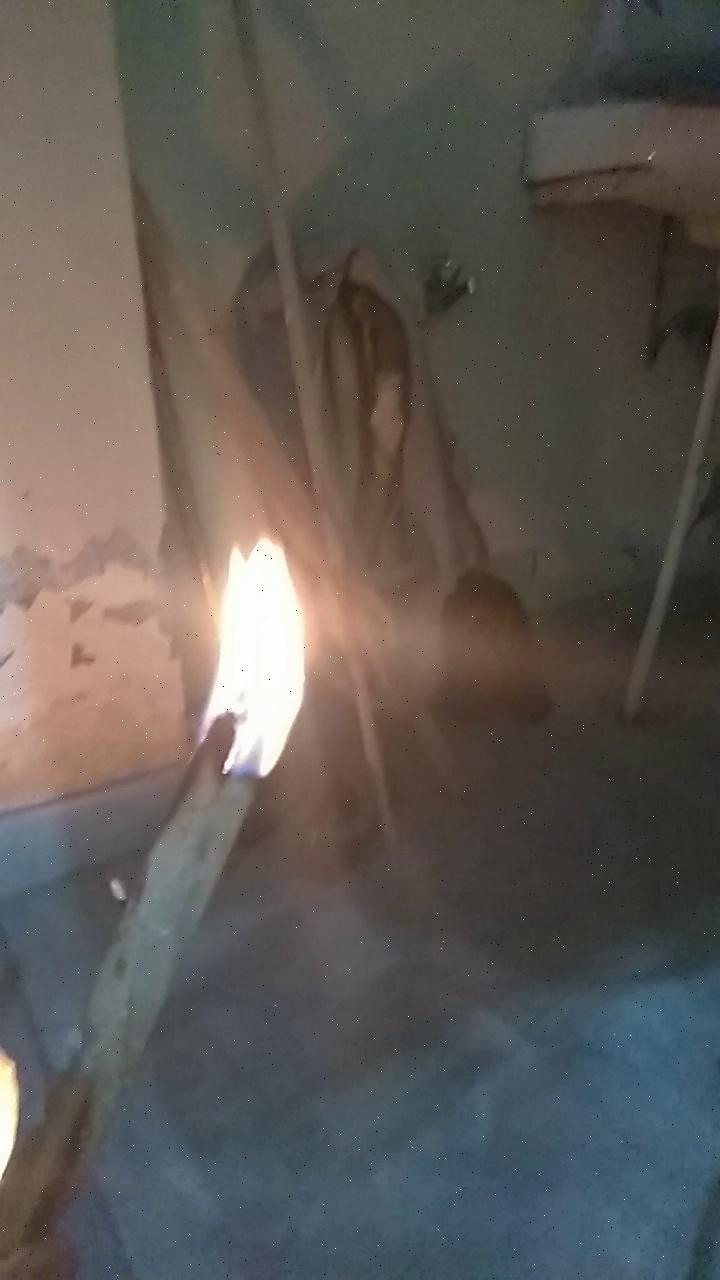fire: (140, 480, 346, 802)
